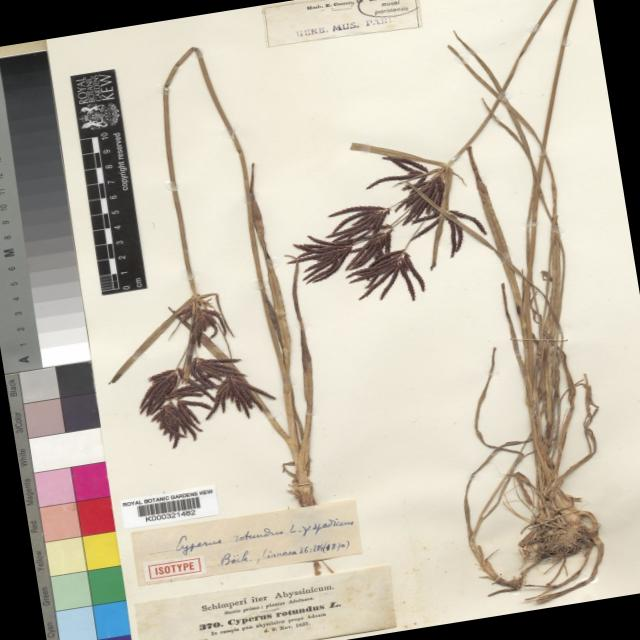cyperus: (94, 281, 288, 458), (276, 192, 429, 318), (366, 136, 488, 266)
